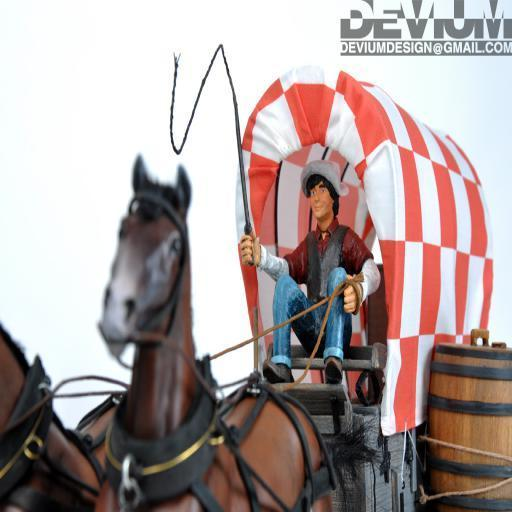horse: (92, 154, 336, 512), (0, 322, 124, 512)
